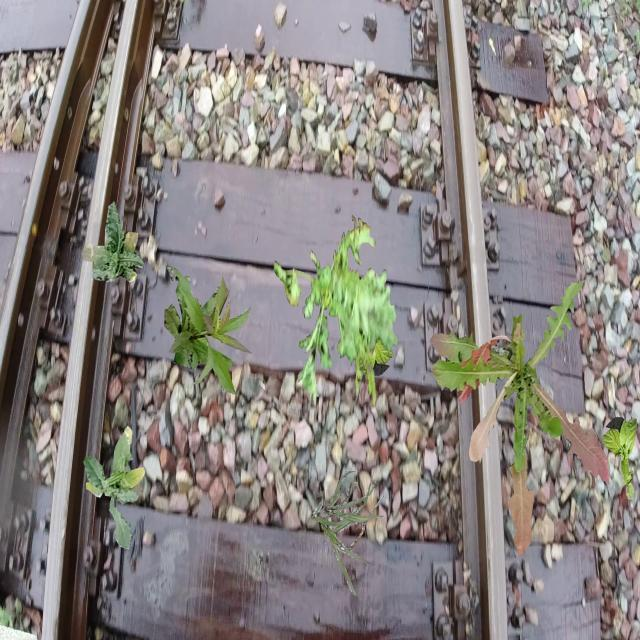Plant: (430, 281, 610, 559), (274, 215, 399, 411), (164, 266, 252, 396), (312, 471, 385, 596), (83, 425, 146, 550), (81, 200, 144, 283), (602, 417, 638, 500), (358, 293, 394, 376)
